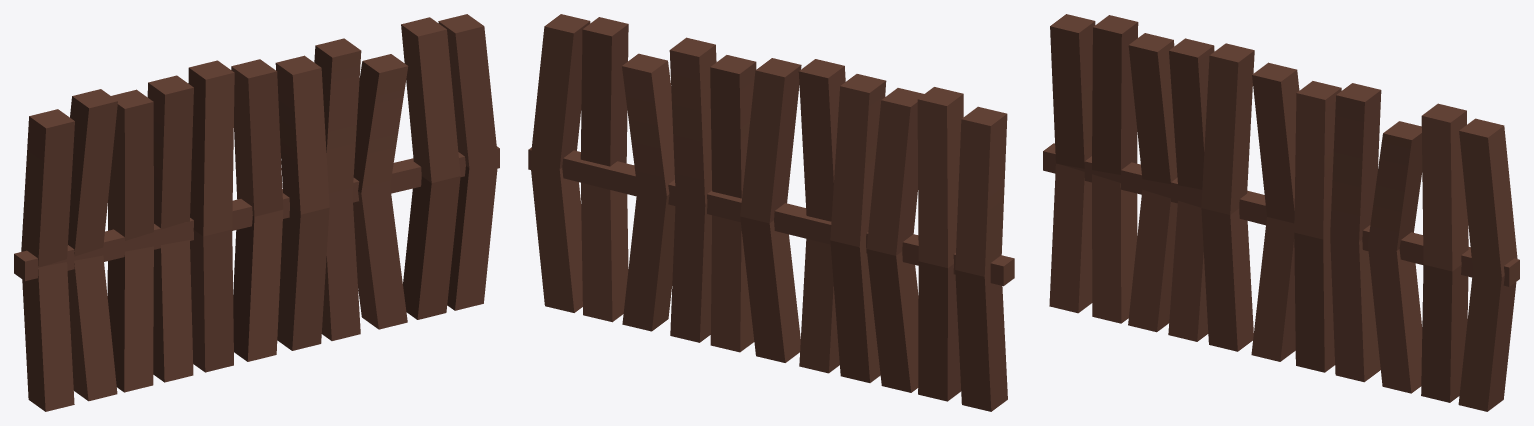
File: fence.fbx
3 views of the same model, side by side, from view 1: azimuth 30°, elevation 25°; view 2: azimuth 150°, elevation 25°; view 3: azimuth 330°, elevation 25° (orthographic).
Visible parts, largest first — view 1: Fence_Type4_Small__11_; view 2: Fence_Type4_Small__11_; view 3: Fence_Type4_Small__11_.
Boxes of the visible parts, x1,y1,x2,y2 form: Fence_Type4_Small__11_: (14,14,499,411); Fence_Type4_Small__11_: (528,14,1014,411); Fence_Type4_Small__11_: (1043,14,1519,411).
Bounding box in the file's own units: 96.64 × 57.3 × 10.11.
1 material, 1 textured.
